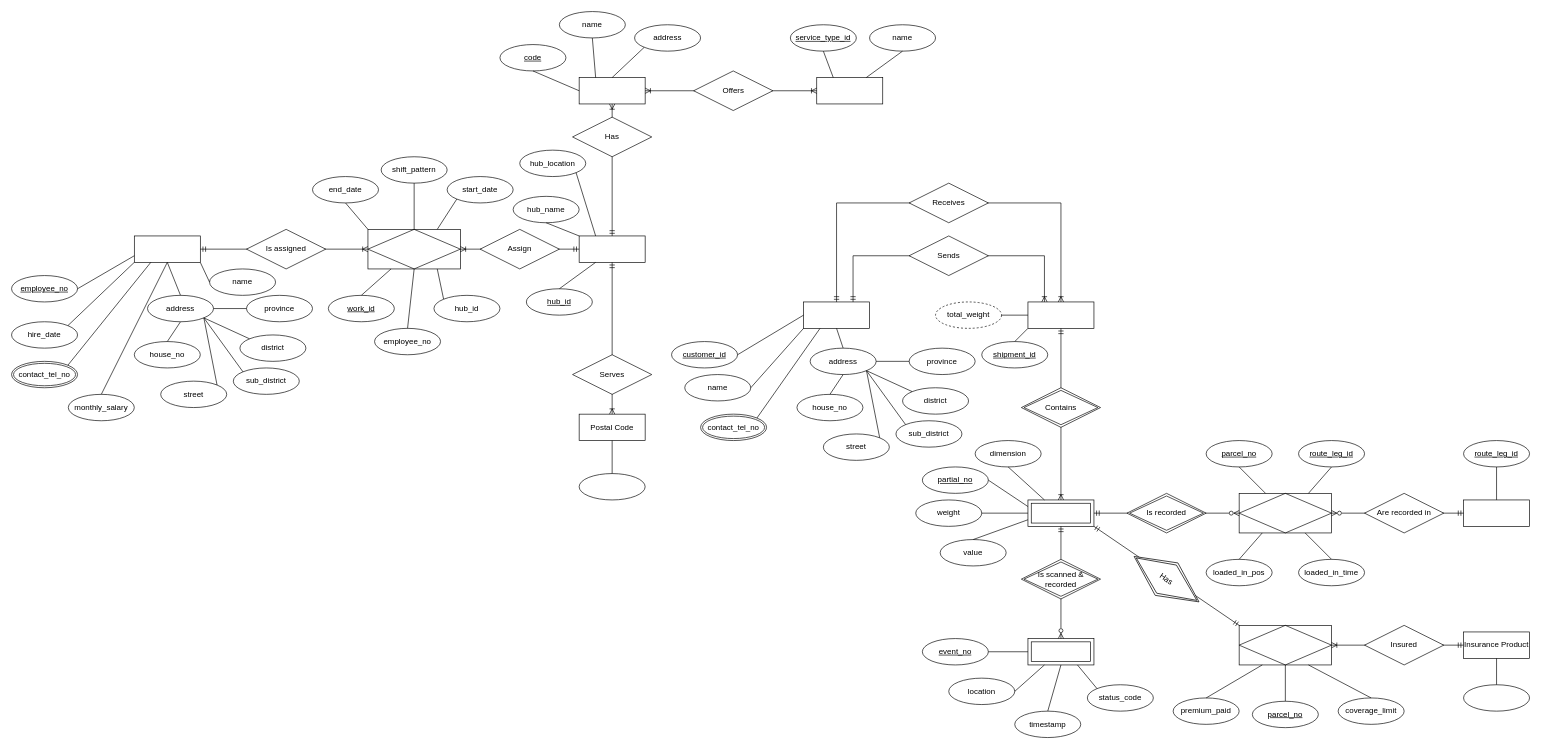
Some shapes in this 1541 by 749 pixel diagram are drawn without their labels. Here are the shapes that lost their labels. From the top down, the centre of each, then its label:
point (611, 90): Service Point
point (849, 90): Service Type
point (167, 248): Staff
point (413, 249): Hub Assignment
point (611, 248): Hub
point (836, 314): Customer
point (1060, 314): Shipment
point (611, 486): postal_code
point (1060, 512): Parcel
point (1285, 513): Parcel Loading
point (1496, 512): Route Leg
point (1060, 651): Tracking Event
point (1285, 645): Parcel Insurance
point (1496, 697): ins_pro_id
